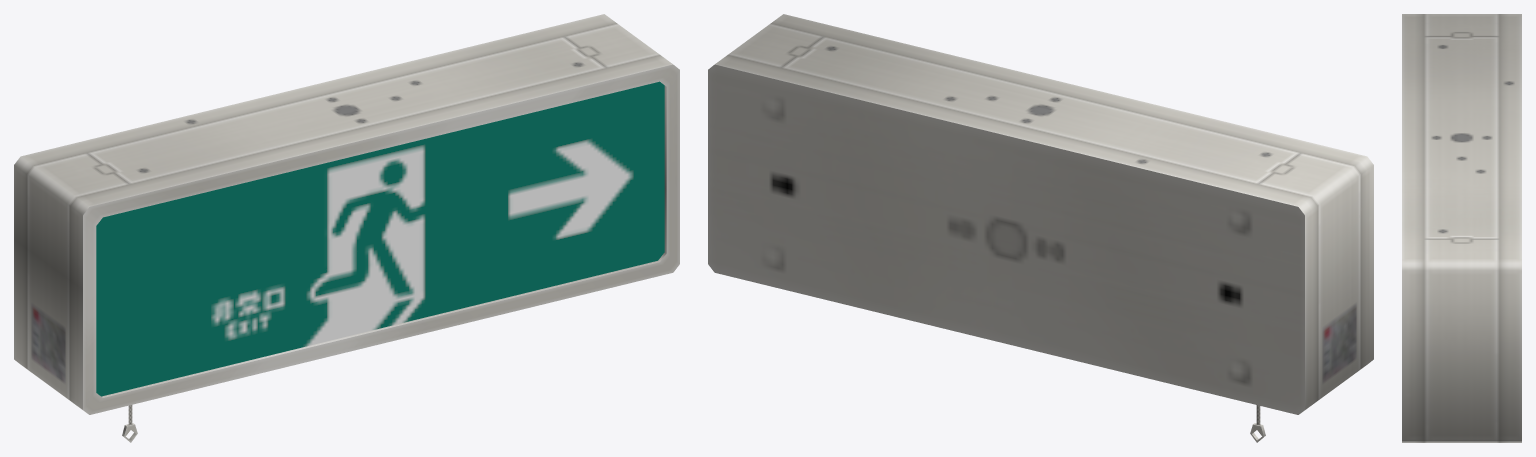
The model's file is SHW_Exitlight_01_04.fbx.
3 renders of one model, left to right at view 1: azimuth 30°, elevation 25°; view 2: azimuth 150°, elevation 25°; view 3: azimuth 270°, elevation 25°, orthographic. The views are drawn at different scales.
Visible parts, largest first — view 1: shw_exitlight_01_04; view 2: shw_exitlight_01_04; view 3: shw_exitlight_01_04.
Part boxes in pixels (bbox=[...]): shw_exitlight_01_04: bbox=[14, 14, 679, 442]; shw_exitlight_01_04: bbox=[708, 14, 1373, 442]; shw_exitlight_01_04: bbox=[1402, 14, 1521, 442].
Size of the model in its own units: 90 by 40.17 by 18.
